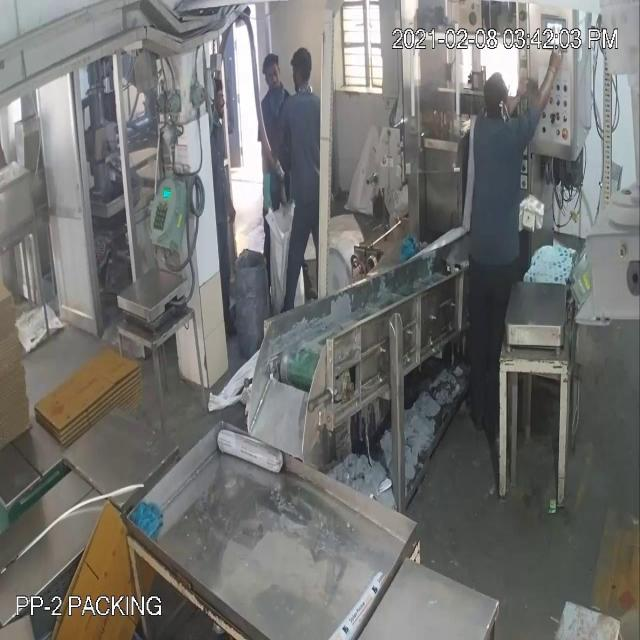No_Gloves: (530, 45, 562, 121)
